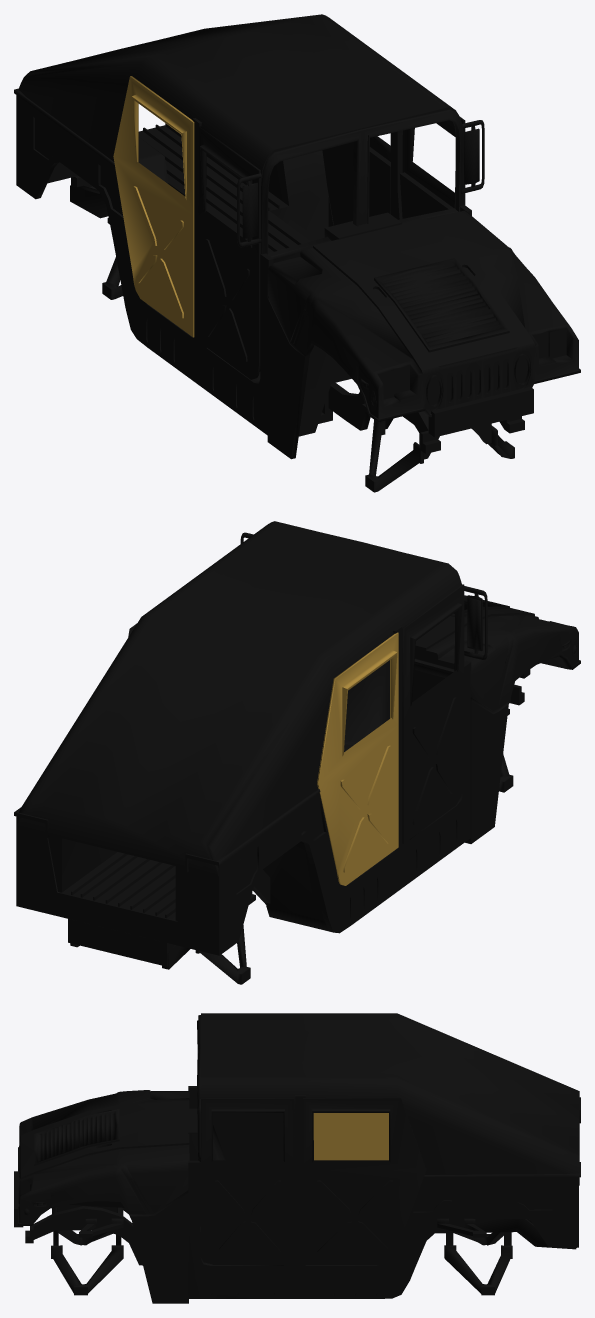
The model's file is car_base.dae.
3 views of the same model, one above another, from view 1: azimuth 30°, elevation 25°; view 2: azimuth 150°, elevation 25°; view 3: azimuth 270°, elevation 25° (orthographic). The views are drawn at different scales.
Visible parts, largest first — view 1: o body (×2); view 2: o body (×2); view 3: o body (×2).
Part boxes in pixels (x1=…): o body (×2): x1=14, y1=14, x2=580, y2=492; o body (×2): x1=14, y1=521, x2=580, y2=984; o body (×2): x1=14, y1=1013, x2=580, y2=1303.
Bounding box in the file's own units: 2.56 × 2.85 × 6.58.
